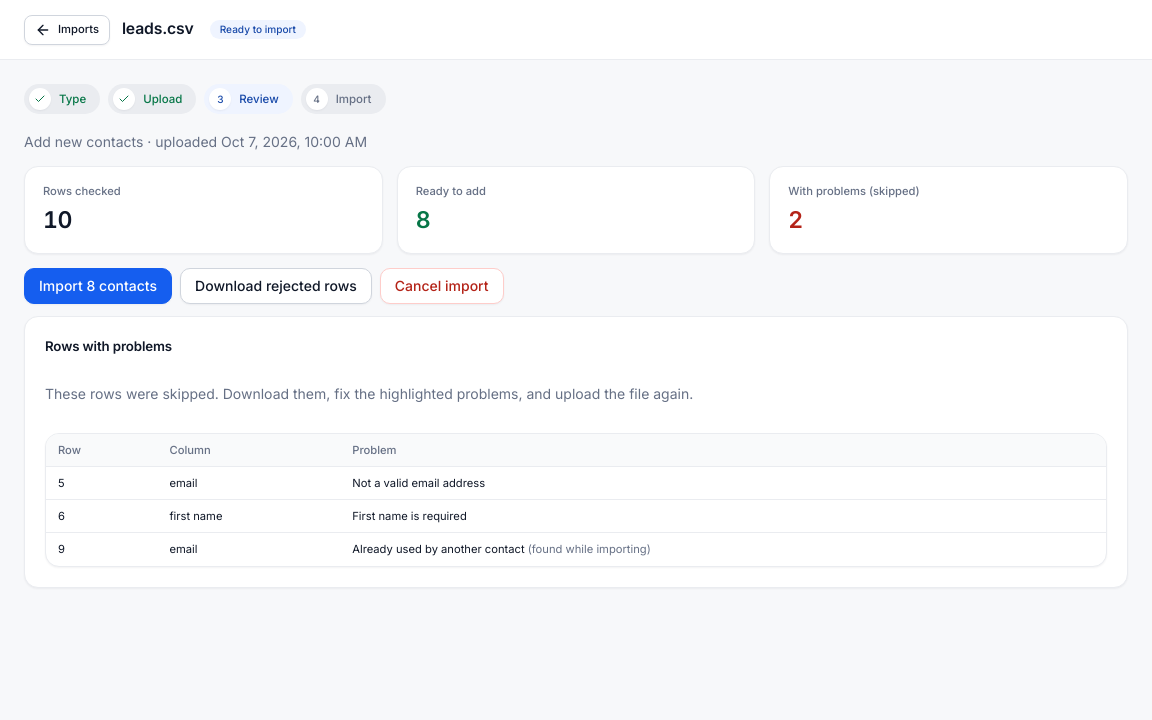
Scenario: ImportJobView › confirming starts the import and the page switches to progress
Click the button "Import 8 contacts" at coordinates (98, 286), box [24,268,172,304]
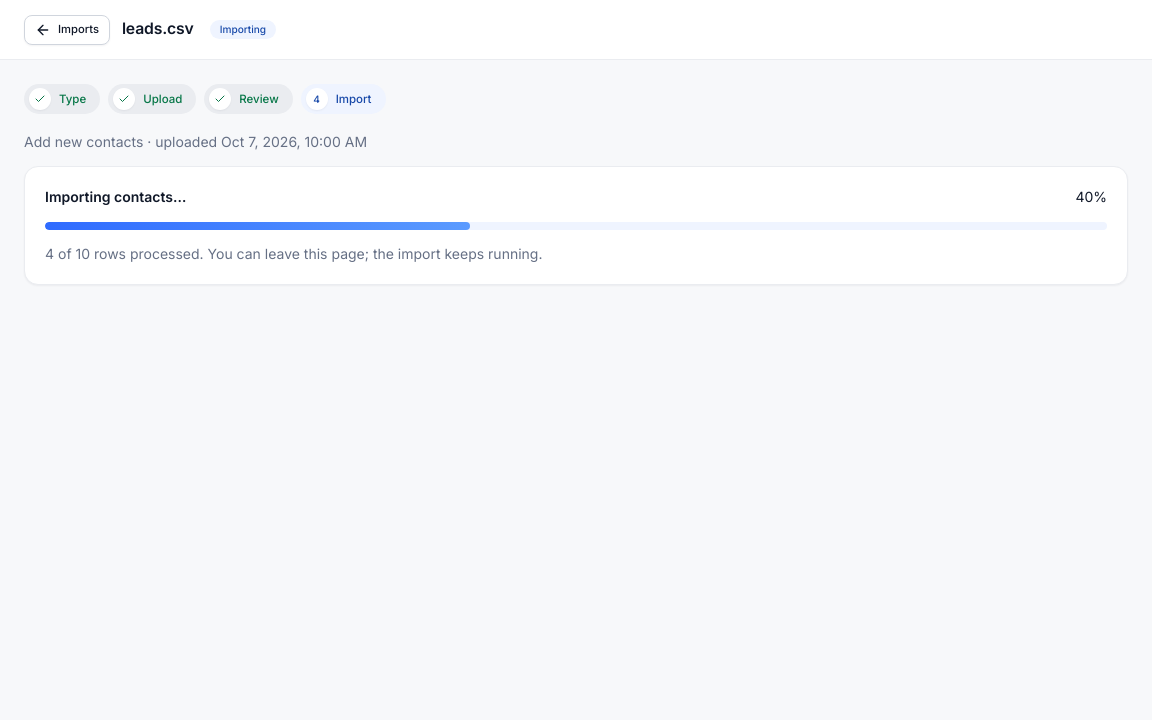
Now the progress indicator named "40% processed" is shown, box [45,222,1107,230]
Now the text "4 of 10 rows processed" is shown, box [45,245,542,262]
Now the text "You can leave this page" is shown, box [45,245,542,262]
